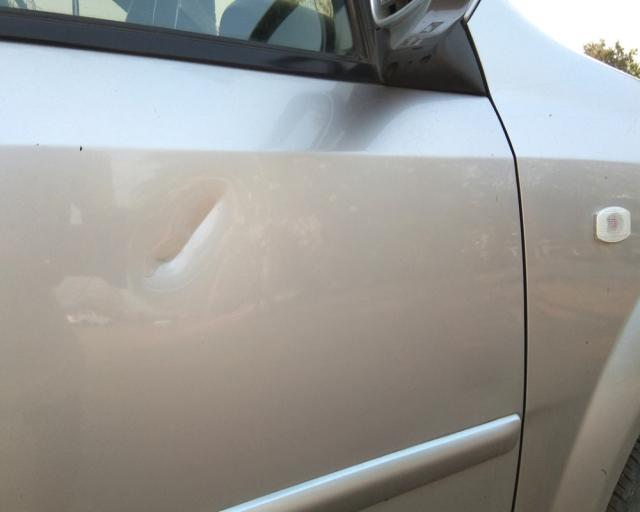dent: (145, 184, 232, 289)
